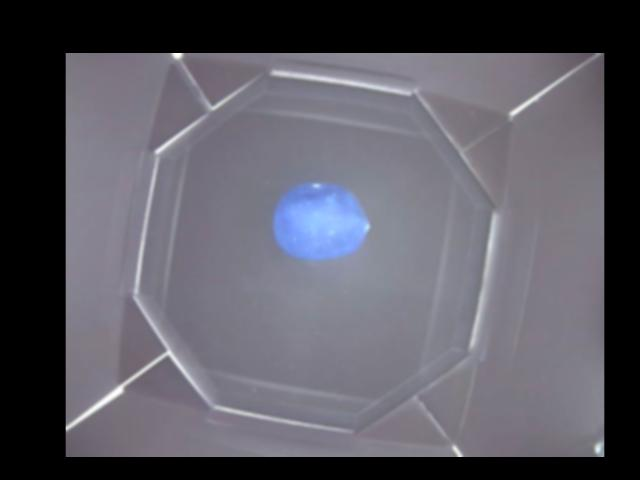Potato: (271, 181, 369, 258)
